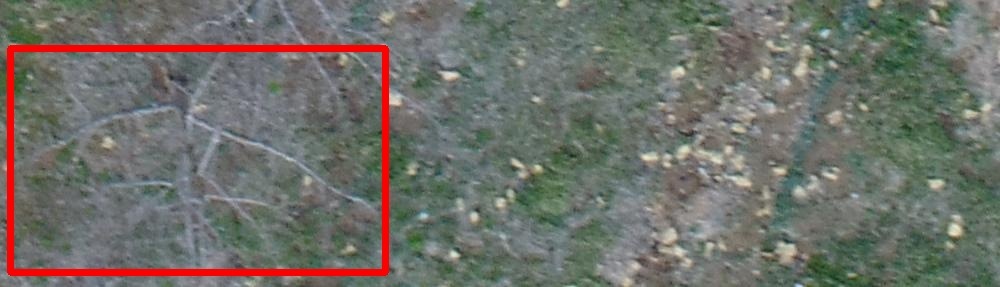apple: (10, 48, 385, 272)
